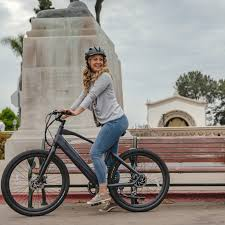Bicycle: (1, 110, 173, 218)
